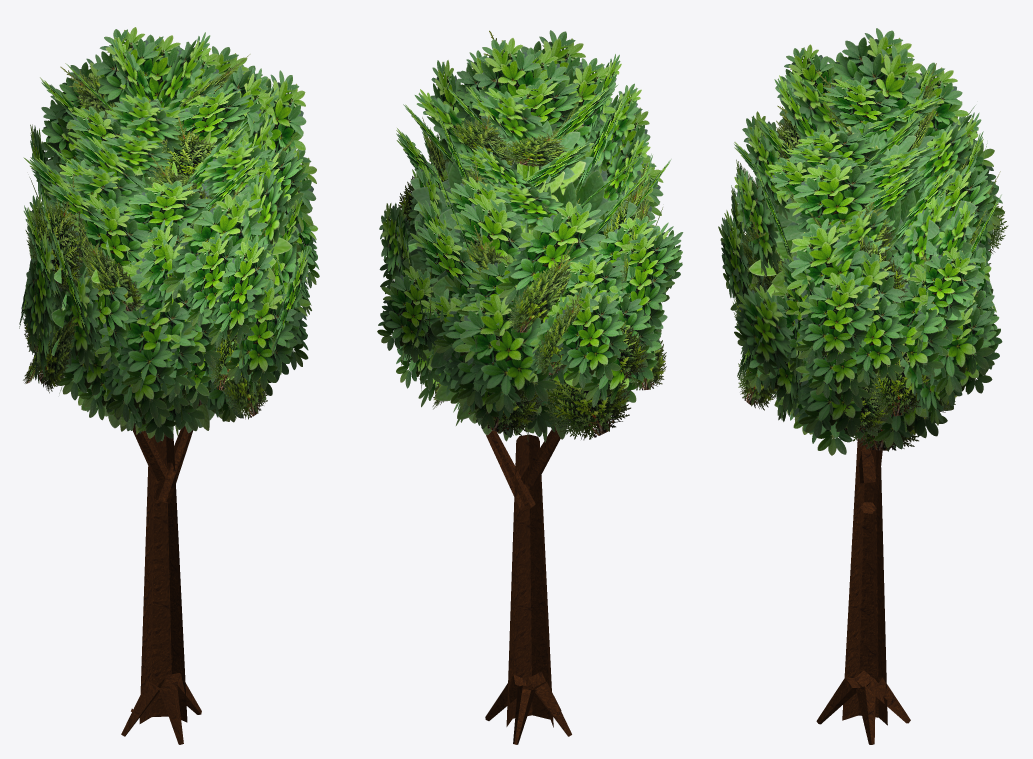
File: tree_broadleaf_03_real.glb
3 renders of one model, left to right at view 1: azimuth 30°, elevation 25°; view 2: azimuth 150°, elevation 25°; view 3: azimuth 270°, elevation 25°, orthographic. The views are drawn at different scales.
Visible parts, largest first — view 1: tree_broadleaf_03; view 2: tree_broadleaf_03; view 3: tree_broadleaf_03.
Part boxes in pixels (x1,y1,x2,y2): tree_broadleaf_03: (19,27,319,744); tree_broadleaf_03: (377,30,683,744); tree_broadleaf_03: (718,28,1008,744).
Size of the model in its own units: 3.45 by 8.03 by 3.27.
2 materials, 2 textured.
